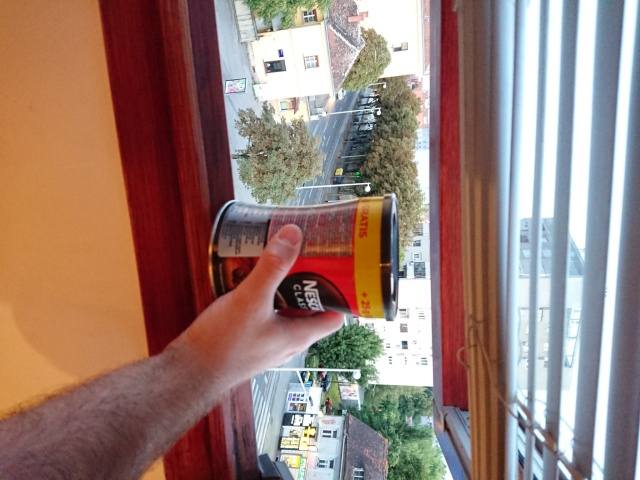Nescafe Classic 225g: (205, 191, 402, 325)
